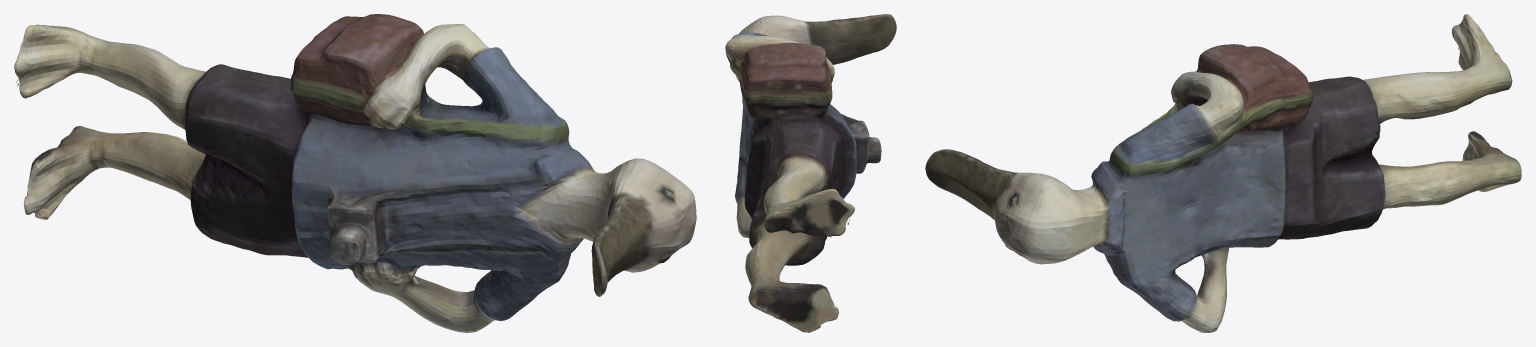
Rendered from duck_FBX.fbx.
3 renders of one model, left to right at view 1: azimuth 30°, elevation 25°; view 2: azimuth 150°, elevation 25°; view 3: azimuth 270°, elevation 25°, orthographic. The views are drawn at different scales.
Parts seen in each view (by area): view 1: file1; view 2: file1; view 3: file1.
Boxes of the visible parts, x1,y1,x2,y2 form: file1: (14,14,696,332); file1: (725,14,896,332); file1: (925,14,1521,332).
Bounding box in the file's own units: 16.08 × 11 × 24.25.
